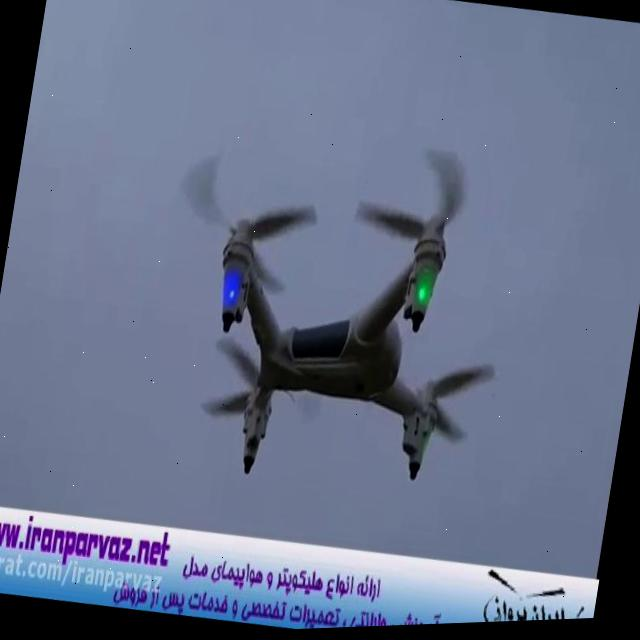drone: (125, 99, 540, 524)
